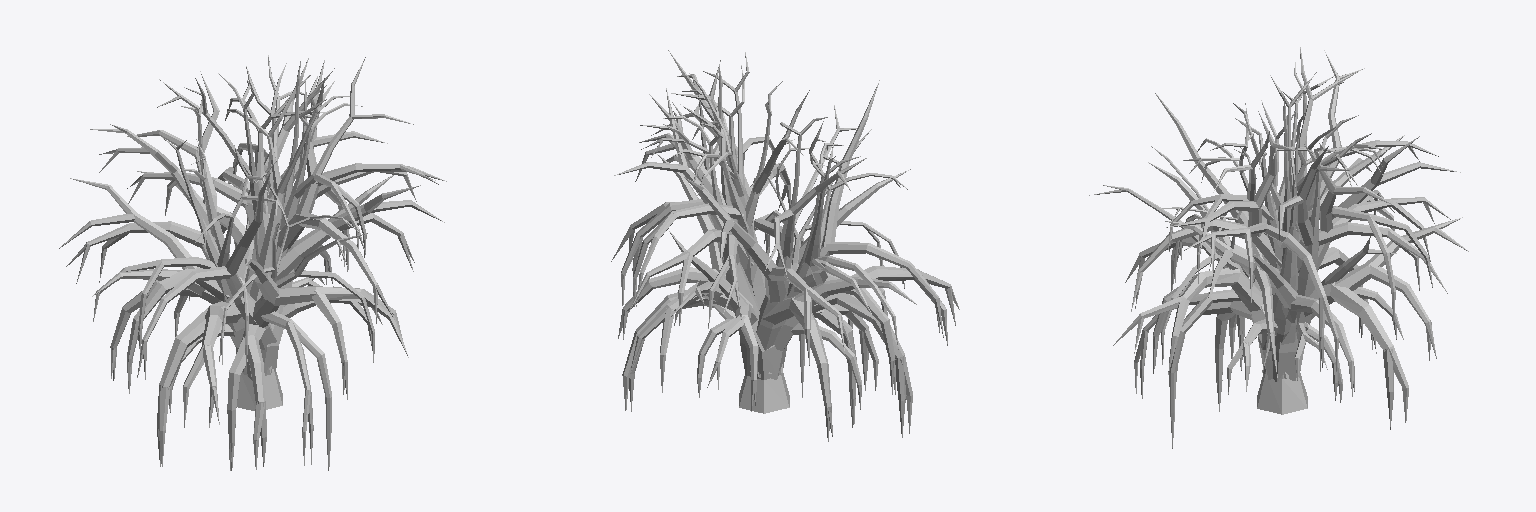
The model's file is tree26.obj.
3 views of the same model, side by side, from view 1: azimuth 30°, elevation 25°; view 2: azimuth 150°, elevation 25°; view 3: azimuth 270°, elevation 25° (orthographic).
Parts seen in each view (by area): view 1: tree; view 2: tree; view 3: tree.
Part boxes in pixels (bbox=[...]): tree: bbox=[59, 55, 446, 470]; tree: bbox=[611, 50, 959, 441]; tree: bbox=[1089, 47, 1468, 448].
Size of the model in its own units: 7.65 by 8.6 by 8.